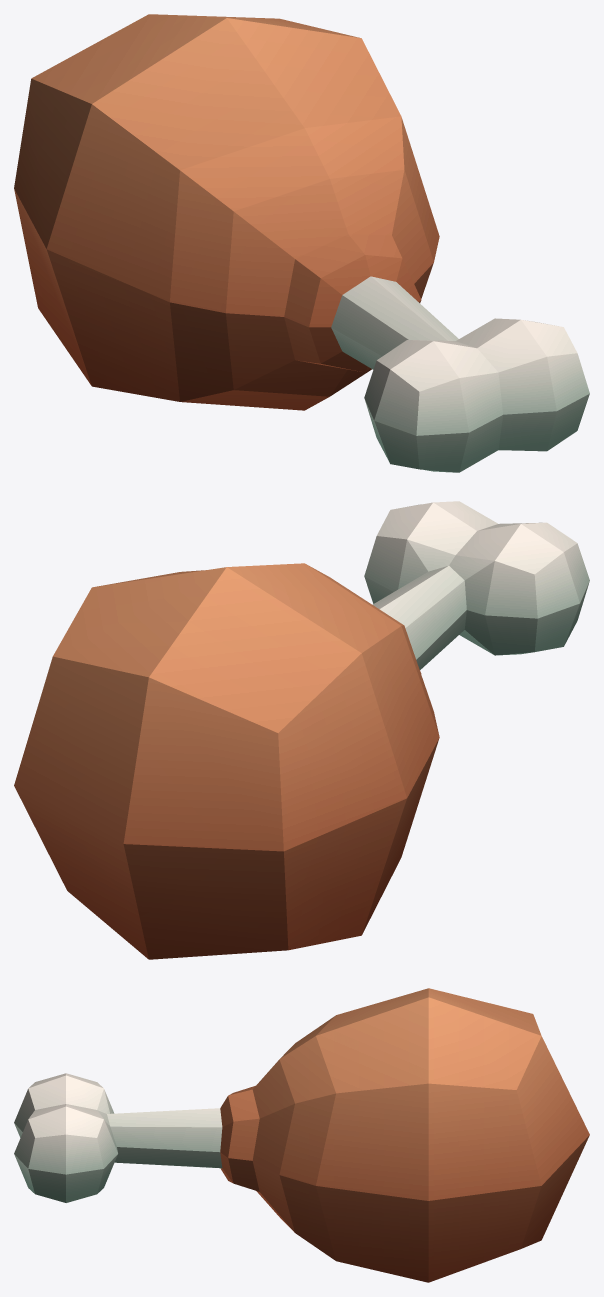
The model's file is fbx-chicken-leg.fbx.
3 renders of one model, top to bottom at view 1: azimuth 30°, elevation 25°; view 2: azimuth 150°, elevation 25°; view 3: azimuth 270°, elevation 25°, orthographic. The views are drawn at different scales.
Parts seen in each view (by area): view 1: chicken-leg; view 2: chicken-leg; view 3: chicken-leg.
Boxes of the visible parts, <box> form: chicken-leg: <box>14,14,589,472</box>; chicken-leg: <box>14,501,589,959</box>; chicken-leg: <box>14,988,589,1282</box>.
Bounding box in the file's own units: 63.29 × 61.37 × 124.
